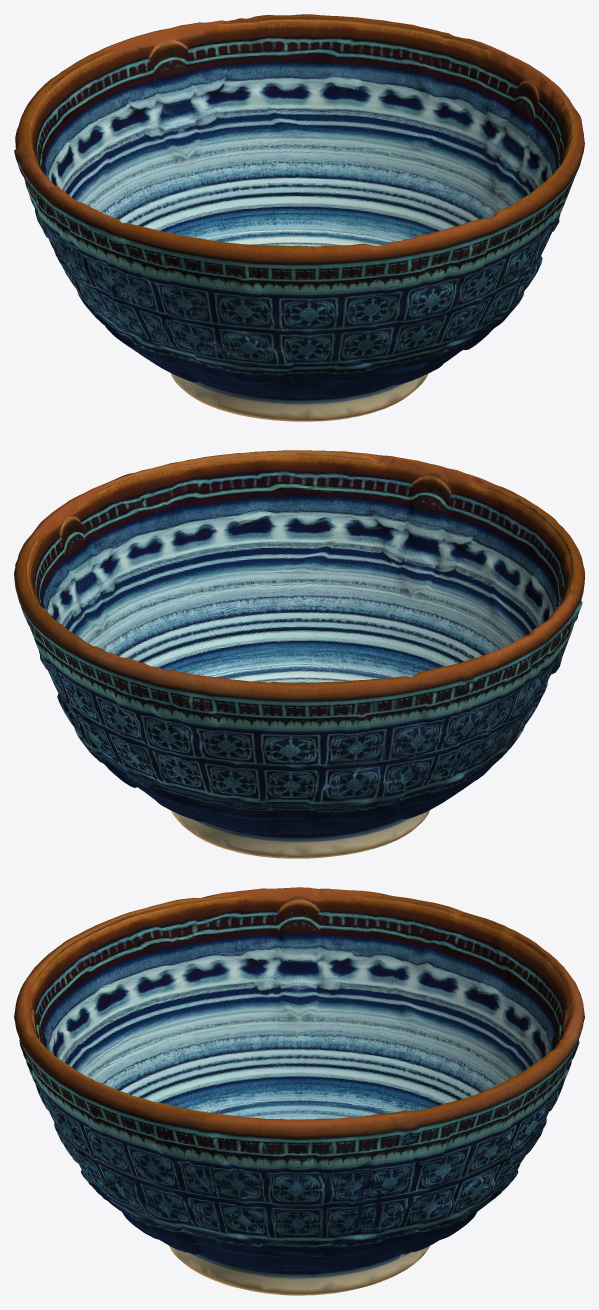
Rendered from cousin_4.glb.
3 views of the same model, one above another, from view 1: azimuth 30°, elevation 25°; view 2: azimuth 150°, elevation 25°; view 3: azimuth 270°, elevation 25° (orthographic).
Size of the model in its own units: 1.91 by 0.8816 by 1.91.
1 material, 1 textured.
